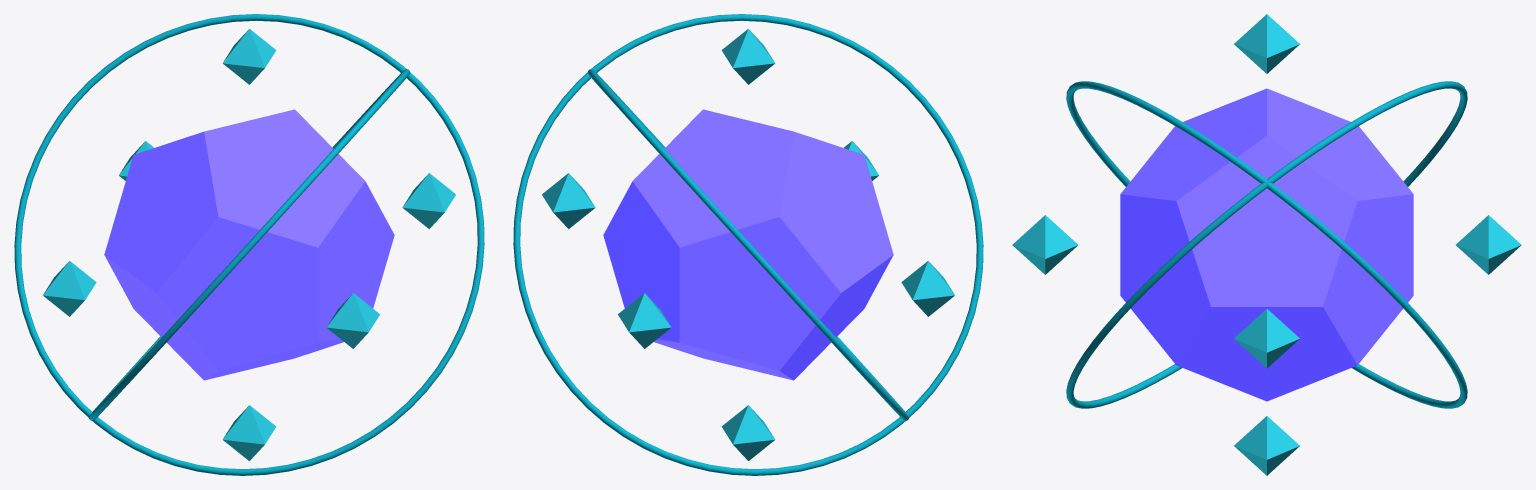
The model's file is boxem_aerospace_flight_deck.glb.
3 renders of one model, left to right at view 1: azimuth 30°, elevation 25°; view 2: azimuth 150°, elevation 25°; view 3: azimuth 270°, elevation 25°, orthographic. The views are drawn at different scales.
Visible parts, largest first — view 1: QuantumAIRobotics; view 2: QuantumAIRobotics; view 3: QuantumAIRobotics.
Part boxes in pixels (bbox=[...]): QuantumAIRobotics: bbox=[14, 14, 484, 475]; QuantumAIRobotics: bbox=[513, 14, 983, 475]; QuantumAIRobotics: bbox=[1012, 14, 1521, 475].
Size of the model in its own units: 2.76 by 2.76 by 2.76.
